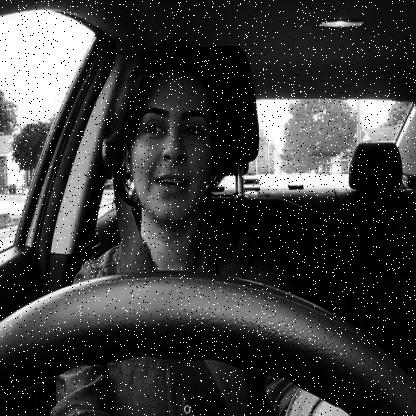seatbelt: (97, 38, 269, 416)
